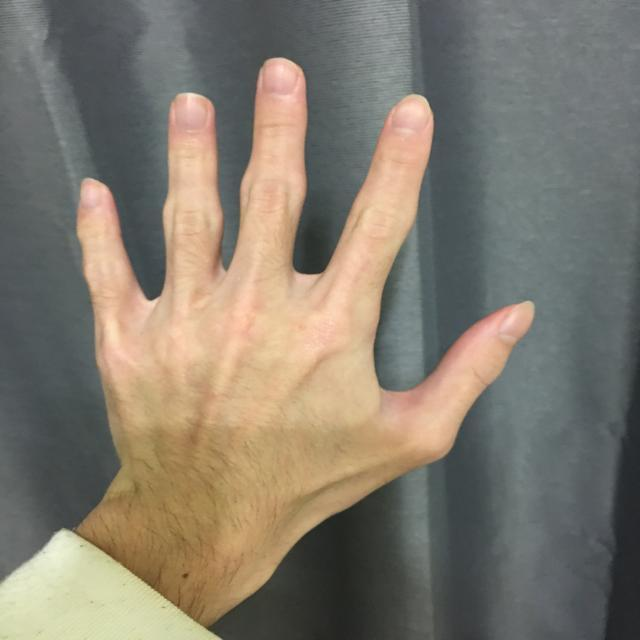no-gloves: (68, 52, 540, 492)
